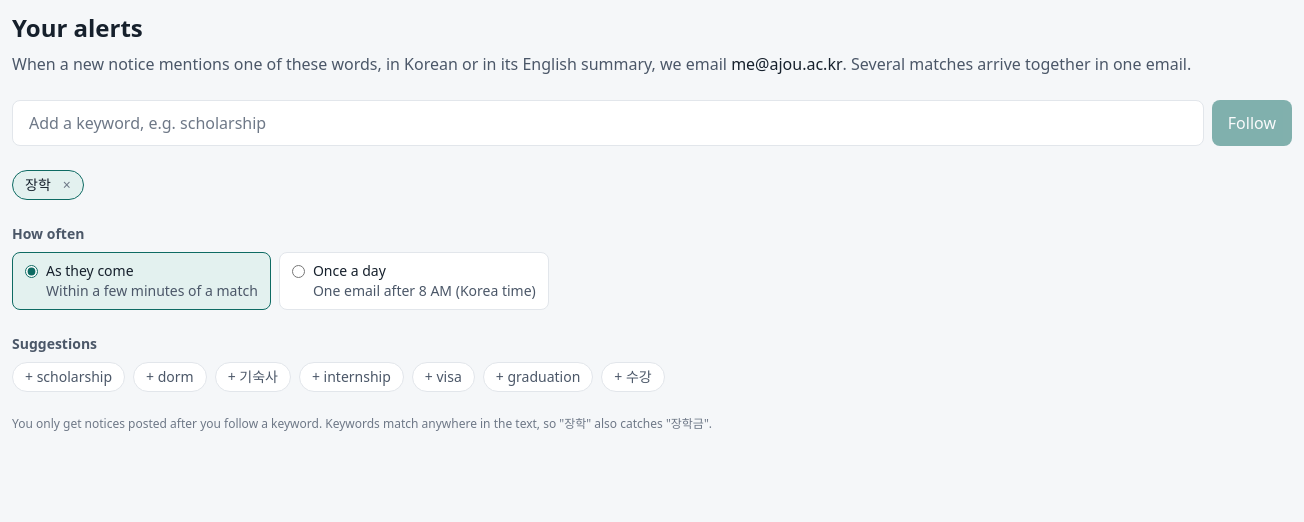
AlertsPage › previews what a keyword would have matched before following it
Later steps or results of the test are not shown.
Type "visa" into the field named "Keyword to follow" at coordinates (608, 123), box [12, 100, 1204, 146]
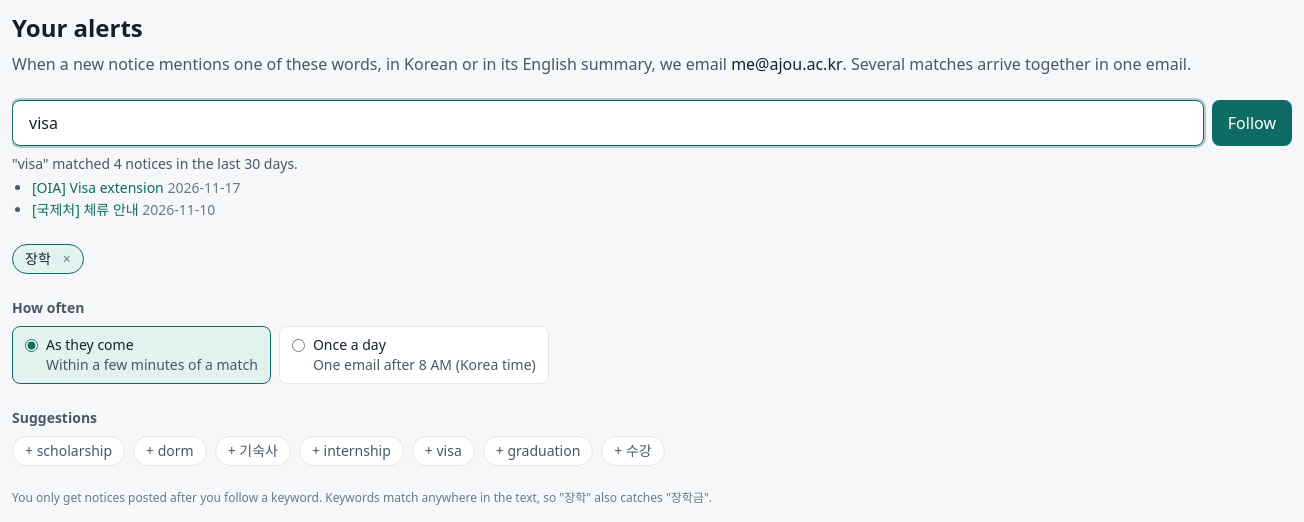
Now the text "\"visa\" matched 4 notices in the last 30 days." is shown, box [12, 154, 298, 173]
Replace the text in the field with "zzz" at coordinates (608, 123), box [12, 100, 1204, 146]
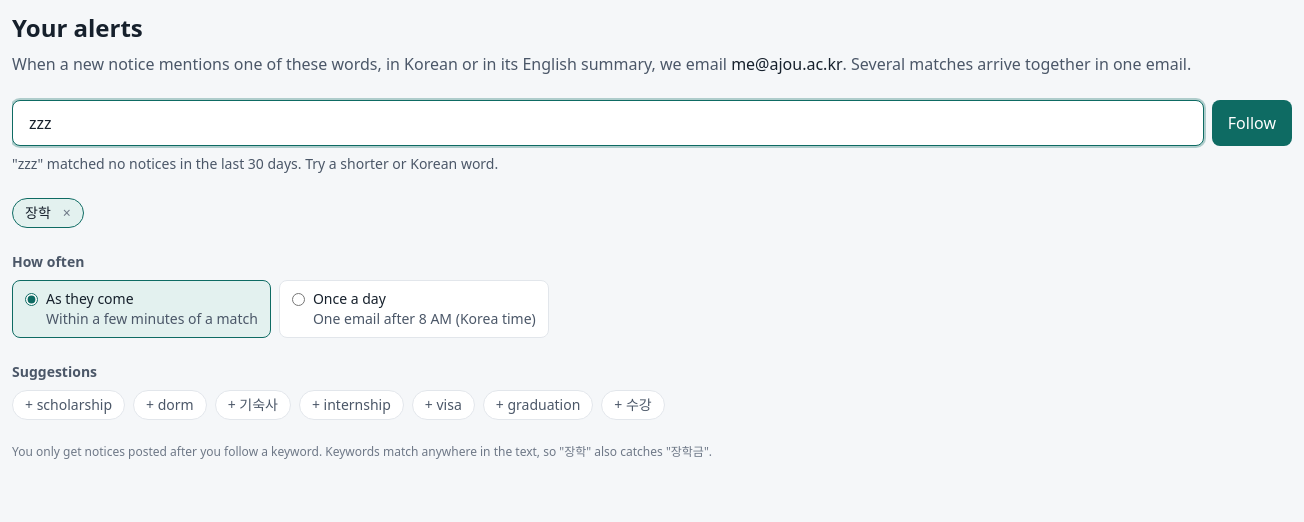
Now the text "\"zzz\" matched no notices" is shown, box [12, 154, 498, 173]
